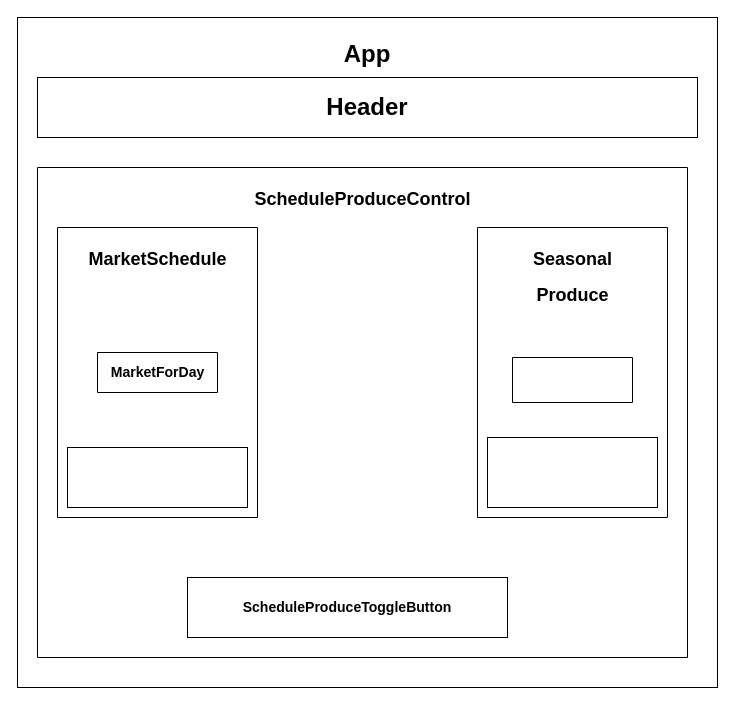
Image size: 735x705. Some labels were removed from this diagram. Here are the shapes that lost their labels. From the top down, the centre of each, then its label:
At [572,379]: "ProduceForMonth".
At [157,477]: "DaySelectionOptions".
At [572,472]: "MonthSelectionOptions".
